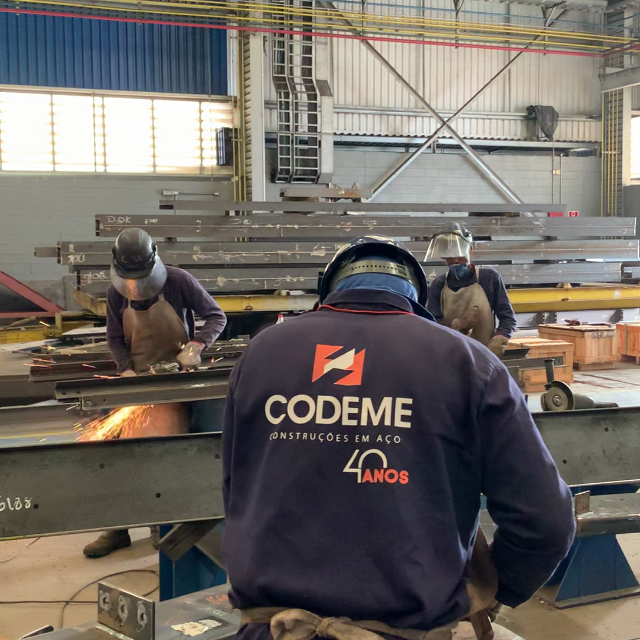face-shield: (108, 257, 167, 304), (424, 232, 467, 265)
glove: (175, 341, 204, 373), (487, 331, 507, 360)
helmet: (113, 226, 155, 281), (428, 221, 474, 245)
person: (220, 234, 578, 627), (105, 227, 228, 372), (422, 224, 519, 357)
